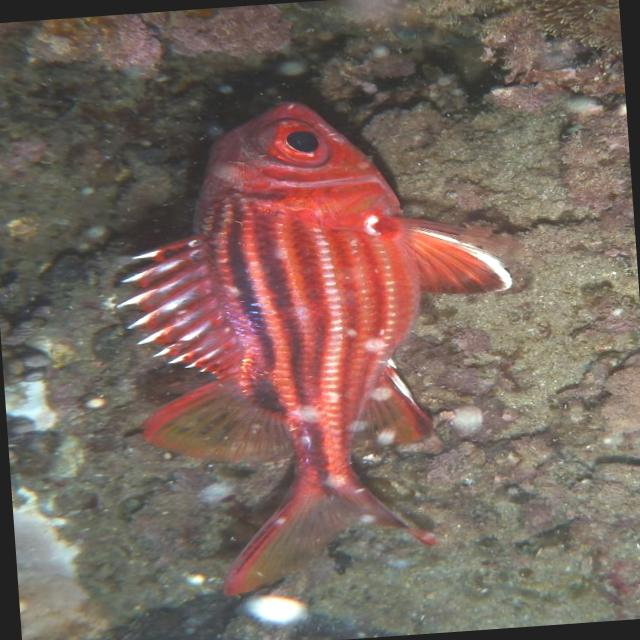Asker Baligi: (70, 70, 546, 610)
